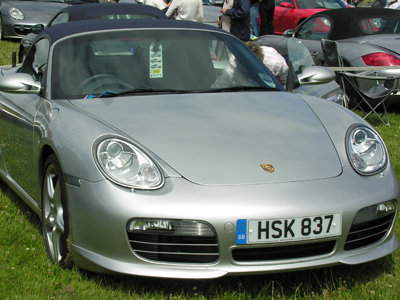licencePlate: (236, 213, 346, 243)
